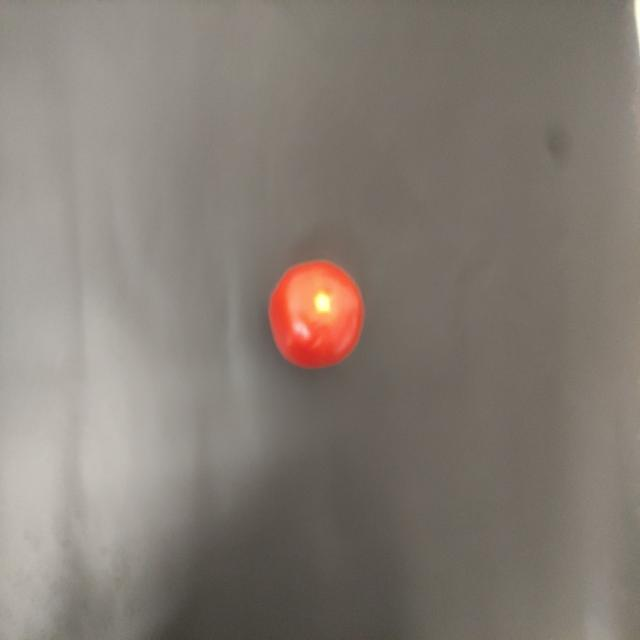kirmizi: (266, 245, 371, 389)
